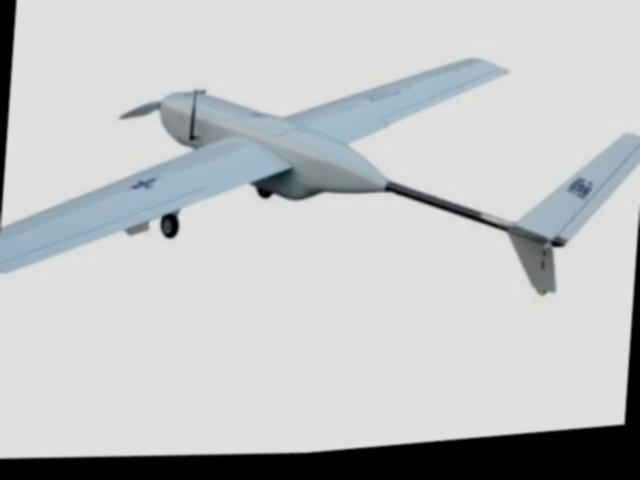uav: (0, 22, 640, 349)
